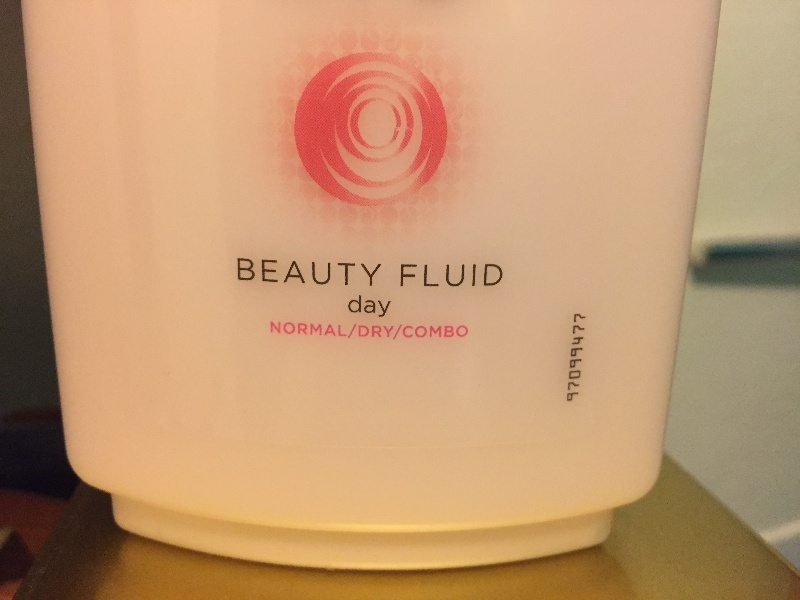text: (577, 313, 587, 403), (241, 258, 256, 288), (257, 258, 272, 288), (273, 258, 288, 288), (289, 258, 304, 288), (305, 258, 320, 288), (321, 258, 336, 288), (337, 258, 352, 288), (353, 258, 368, 288), (369, 258, 382, 288), (401, 264, 416, 288), (417, 264, 432, 288), (433, 264, 448, 288), (449, 264, 464, 288), (465, 264, 480, 288), (481, 264, 496, 288), (353, 294, 368, 318), (369, 294, 384, 318), (273, 321, 288, 343), (289, 321, 304, 343), (305, 321, 320, 343), (321, 321, 336, 343), (337, 321, 352, 343), (353, 321, 368, 343), (369, 321, 384, 343), (385, 321, 400, 343), (401, 321, 416, 343), (417, 321, 432, 343), (433, 321, 448, 343), (449, 321, 464, 343), (574, 313, 576, 403), (385, 294, 392, 318), (497, 264, 503, 288), (465, 321, 470, 343), (237, 258, 240, 288), (349, 294, 352, 318), (270, 321, 272, 343)
